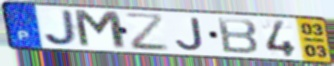4: (264, 18, 298, 58)
B: (215, 16, 261, 56)
J: (42, 9, 82, 48), (173, 16, 206, 53)
M: (71, 8, 130, 52)
Z: (122, 12, 172, 53)
